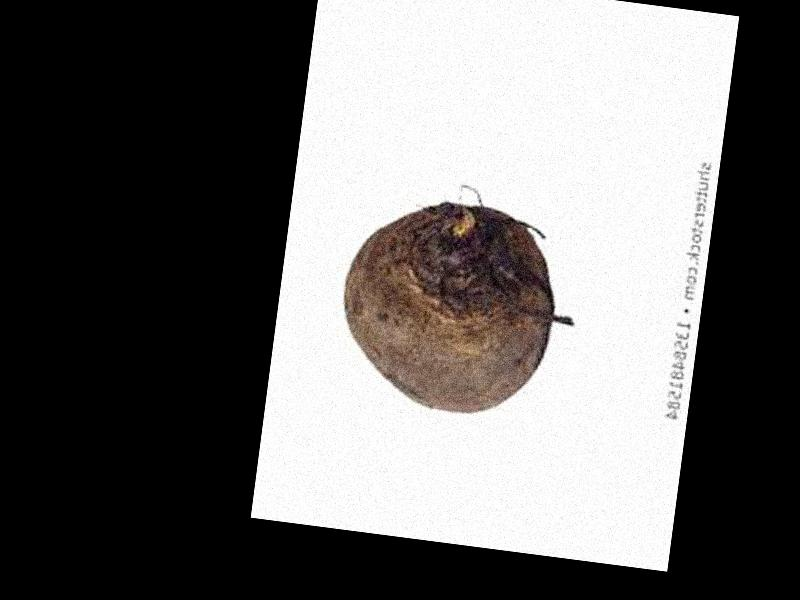Beet: (331, 193, 563, 425)
